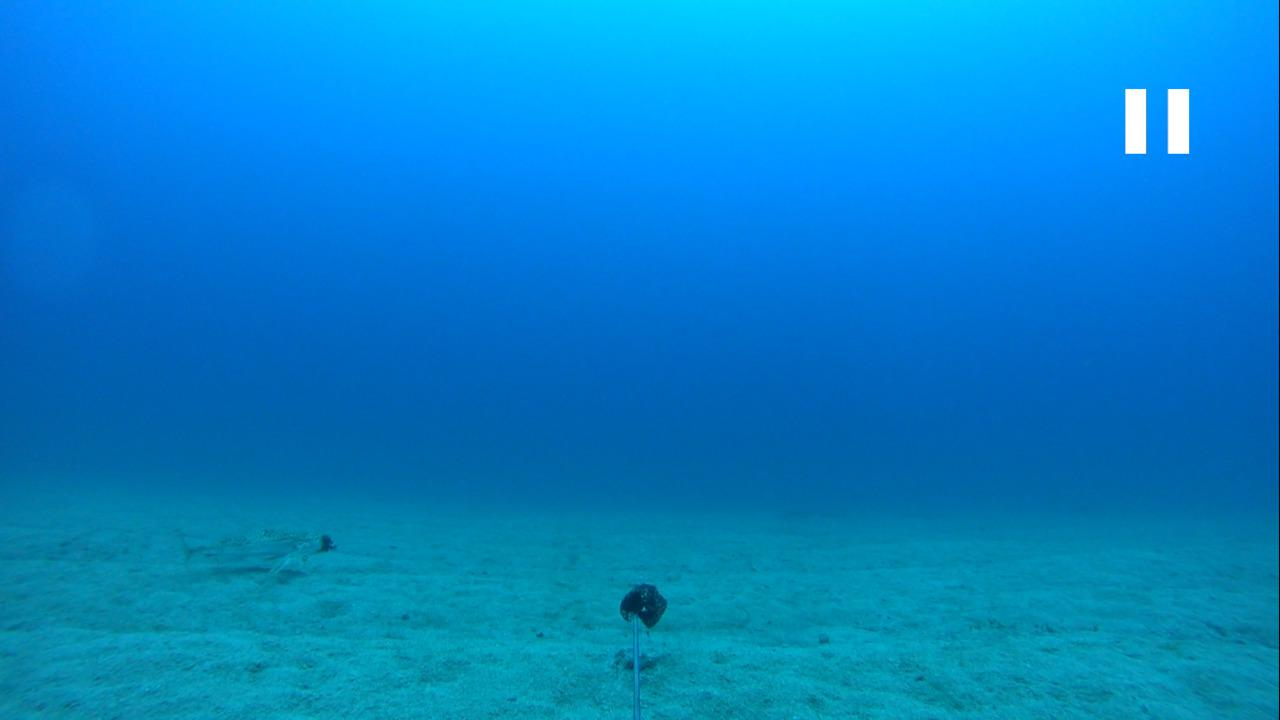dactylopterus: (155, 517, 335, 582)
